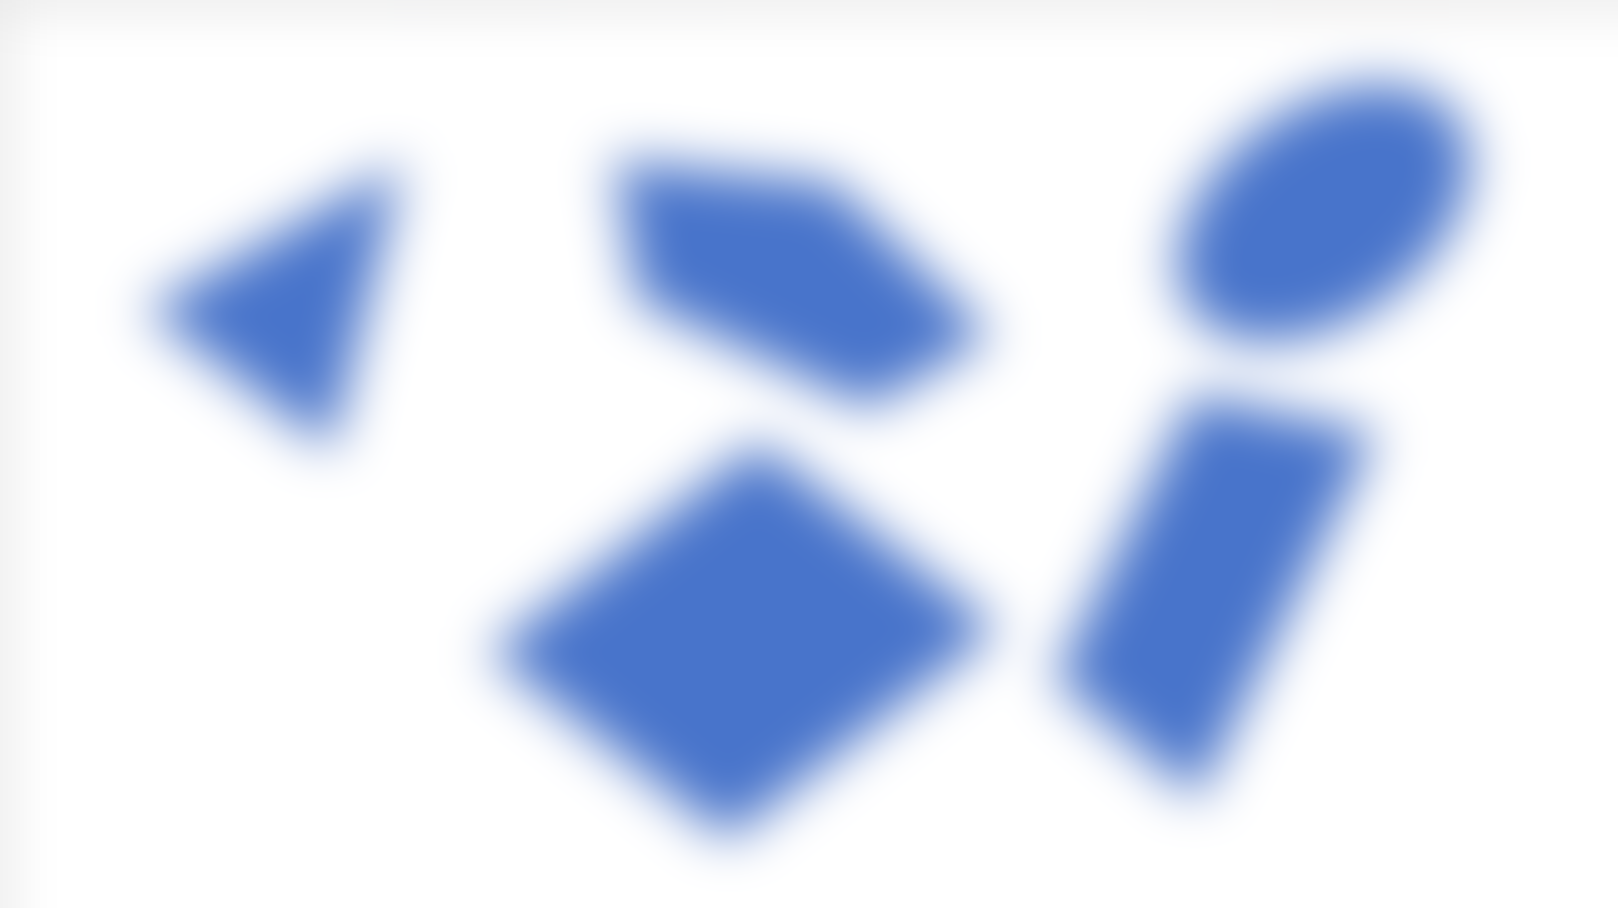circle: (1148, 42, 1518, 335)
parallelogram: (476, 435, 985, 842)
pentagon: (577, 104, 992, 417)
trapezium: (1040, 380, 1401, 798)
triangle: (123, 123, 463, 461)
